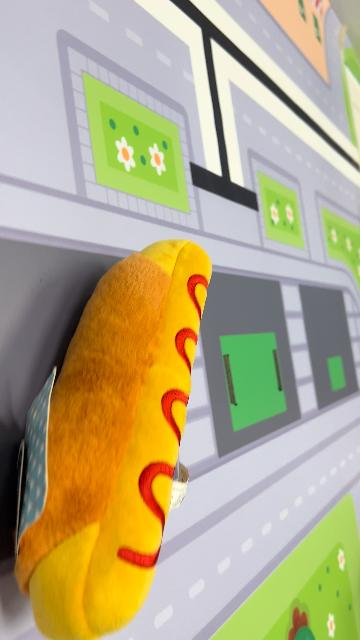hotdog: (13, 237, 214, 638)
